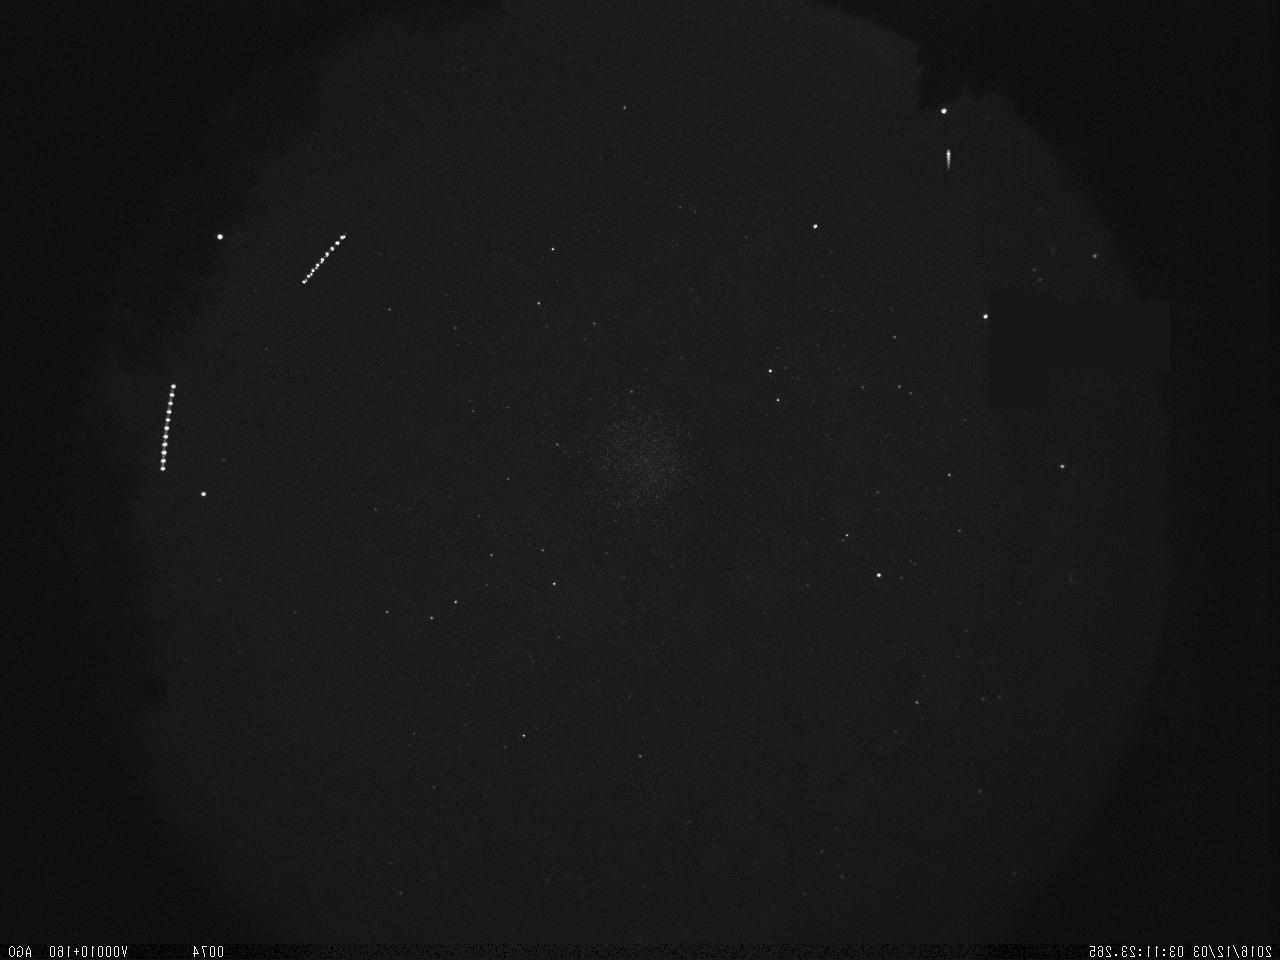meteor: (936, 137, 959, 182)
satelite: (292, 222, 360, 297), (144, 374, 187, 483)
